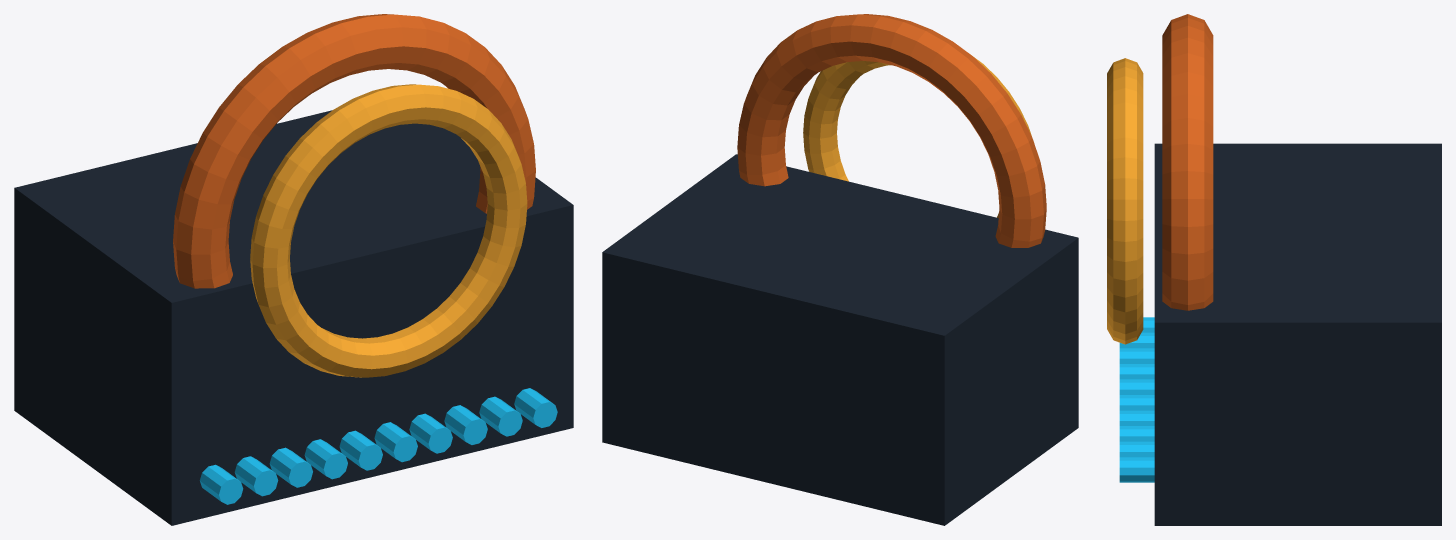
File: 57_L87_ContactlessRotaryPowerCouplerPrimary.fbx
3 views of the same model, side by side, from view 1: azimuth 30°, elevation 25°; view 2: azimuth 150°, elevation 25°; view 3: azimuth 270°, elevation 25° (orthographic). The views are drawn at different scales.
Visible parts, largest first — view 1: L87_ContactlessRotaryPowerCouplerPrimary, L87_ContactlessRotaryPowerCouplerPrimary_Part_0002, L87_ContactlessRotaryPowerCouplerPrimary_Part_0001; view 2: L87_ContactlessRotaryPowerCouplerPrimary, L87_ContactlessRotaryPowerCouplerPrimary_Part_0001, L87_ContactlessRotaryPowerCouplerPrimary_Part_0002; view 3: L87_ContactlessRotaryPowerCouplerPrimary, L87_ContactlessRotaryPowerCouplerPrimary_Part_0001, L87_ContactlessRotaryPowerCouplerPrimary_Part_0002.
Part boxes in pixels (bbox=[...]): L87_ContactlessRotaryPowerCouplerPrimary: bbox=[14, 110, 573, 525]; L87_ContactlessRotaryPowerCouplerPrimary_Part_0002: bbox=[250, 84, 527, 377]; L87_ContactlessRotaryPowerCouplerPrimary_Part_0001: bbox=[173, 14, 535, 288]; L87_ContactlessRotaryPowerCouplerPrimary: bbox=[602, 154, 1078, 525]; L87_ContactlessRotaryPowerCouplerPrimary_Part_0001: bbox=[737, 14, 1046, 247]; L87_ContactlessRotaryPowerCouplerPrimary_Part_0002: bbox=[803, 54, 1031, 217]; L87_ContactlessRotaryPowerCouplerPrimary: bbox=[1119, 143, 1441, 525]; L87_ContactlessRotaryPowerCouplerPrimary_Part_0001: bbox=[1162, 14, 1213, 310]; L87_ContactlessRotaryPowerCouplerPrimary_Part_0002: bbox=[1107, 58, 1143, 344].
Size of the model in its own units: 115 by 121 by 90.92.
